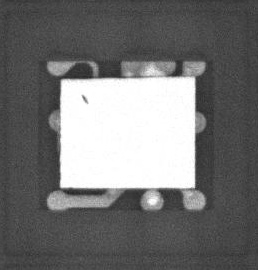DIE_INK: (76, 98, 84, 110)
